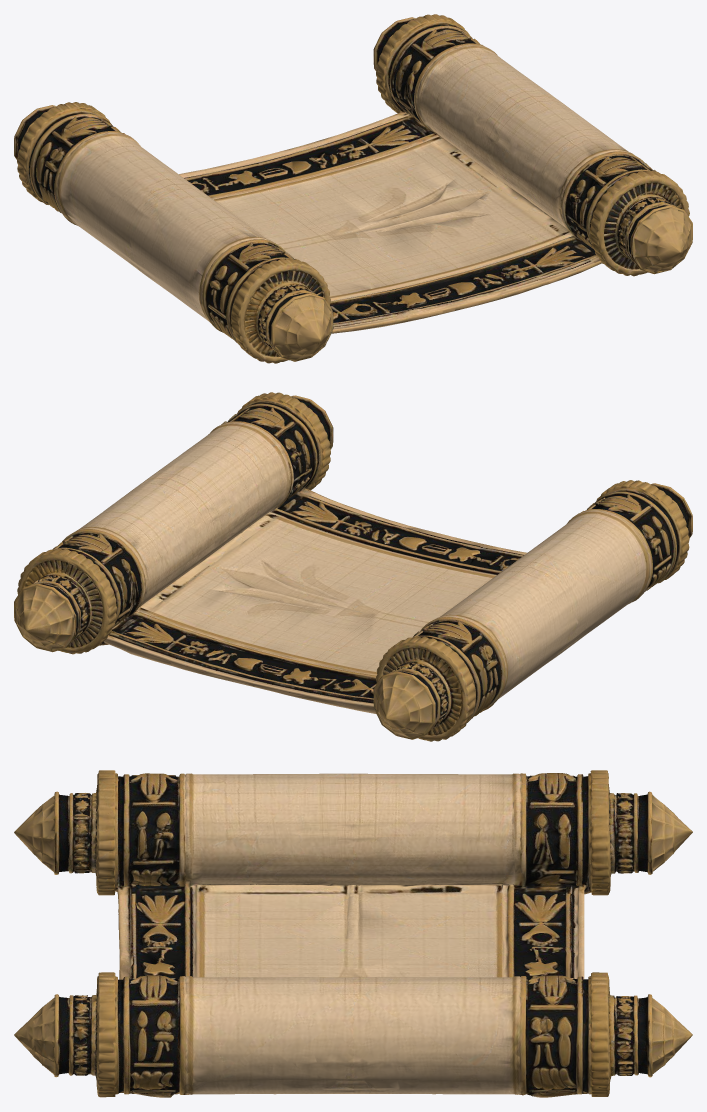
The model's file is papyrus.glb.
The picture shows the model from 3 angles, top to bottom: view 1: azimuth 30°, elevation 25°; view 2: azimuth 150°, elevation 25°; view 3: azimuth 270°, elevation 25°; orthographic projection. The views are drawn at different scales.
Visible parts, largest first — view 1: mesh_node; view 2: mesh_node; view 3: mesh_node.
Part boxes in pixels (box(x1,y1,x2,y2)): mesh_node: box(14, 14, 692, 363); mesh_node: box(14, 392, 692, 741); mesh_node: box(14, 770, 692, 1097).
Bounding box in the file's own units: 1.69 × 0.3472 × 1.9.
Materials: 1 (1 with a texture image).
